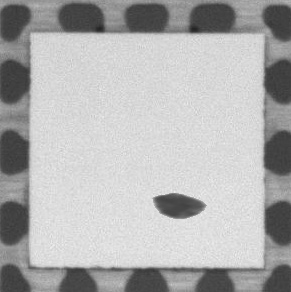DIE_INK: (148, 191, 209, 221)
